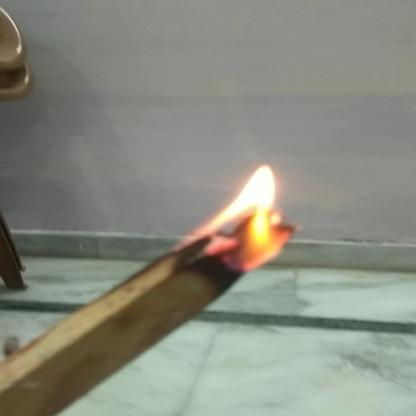fire: (178, 158, 312, 276)
